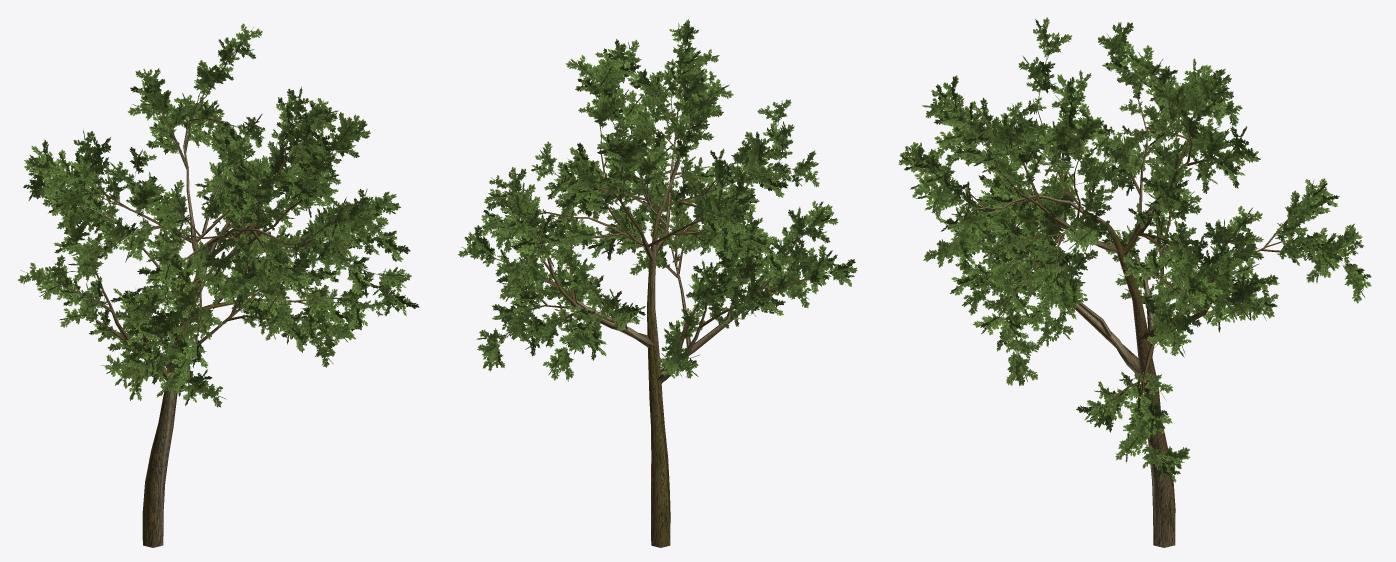
Rendered from strom_ovocny.glb.
The picture shows the model from 3 angles, left to right: view 1: azimuth 30°, elevation 25°; view 2: azimuth 150°, elevation 25°; view 3: azimuth 270°, elevation 25°; orthographic projection. The views are drawn at different scales.
Visible parts, largest first — view 1: leaves, bark; view 2: leaves, bark; view 3: leaves, bark.
Part boxes in pixels (bbox=[...]): leaves: bbox=[18, 23, 419, 407]; bark: bbox=[55, 51, 380, 547]; leaves: bbox=[458, 19, 857, 381]; bark: bbox=[489, 43, 828, 547]; leaves: bbox=[898, 17, 1371, 482]; bark: bbox=[919, 51, 1341, 547].
Size of the model in its own units: 33.26 by 47.02 by 38.71.
2 materials, 2 textured.
